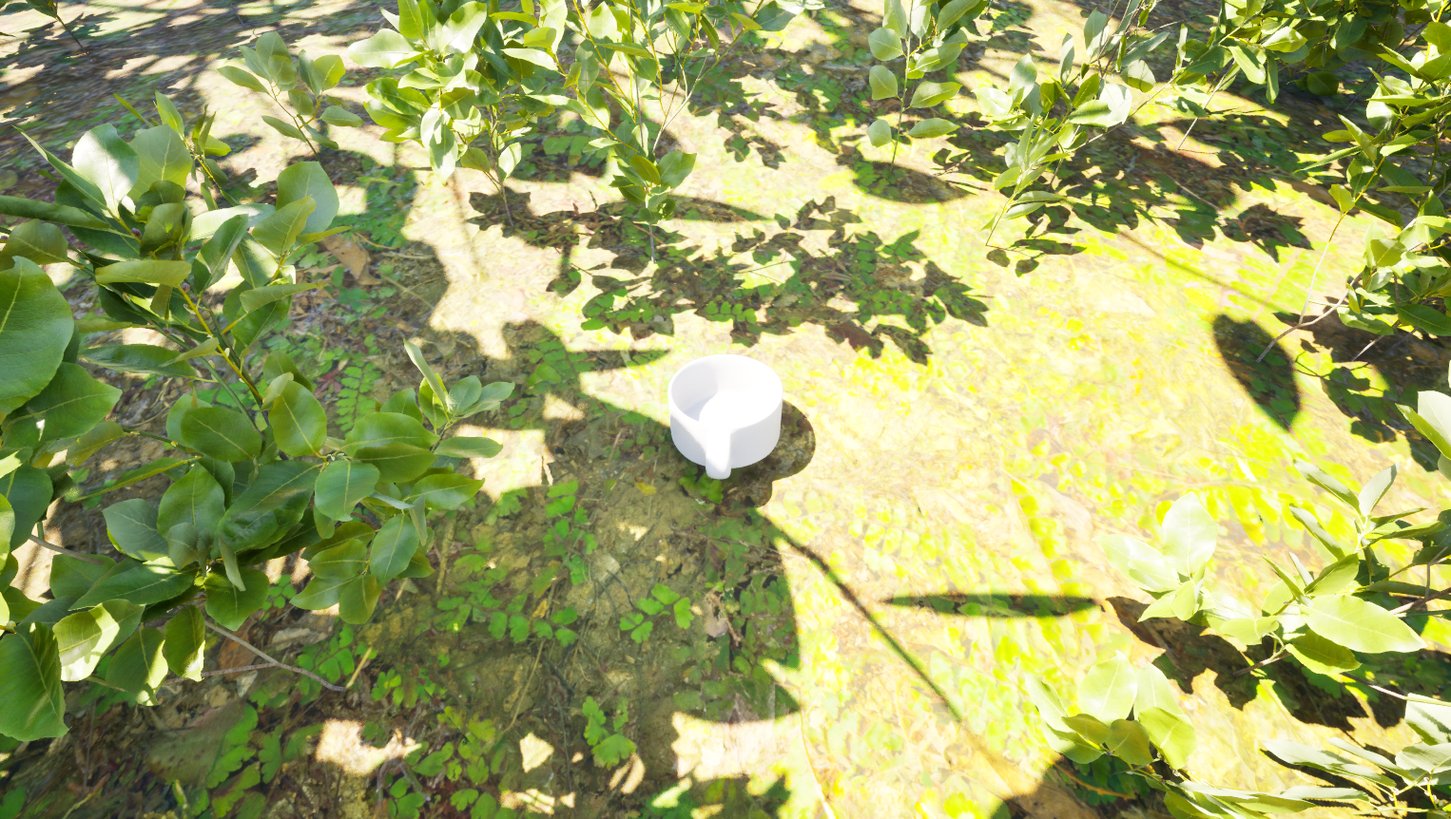Teacup: (631, 341, 806, 499)
